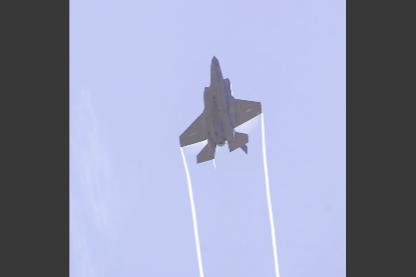F22: (180, 54, 263, 168)
